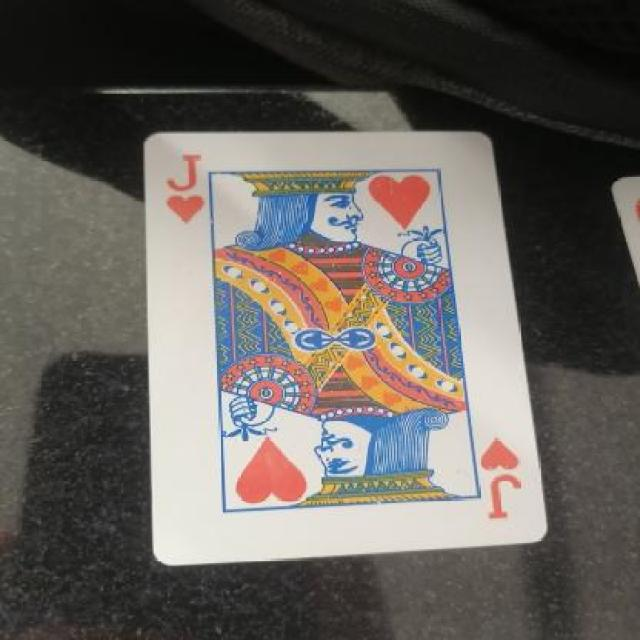JH: (472, 431, 536, 527), (156, 150, 221, 228)
